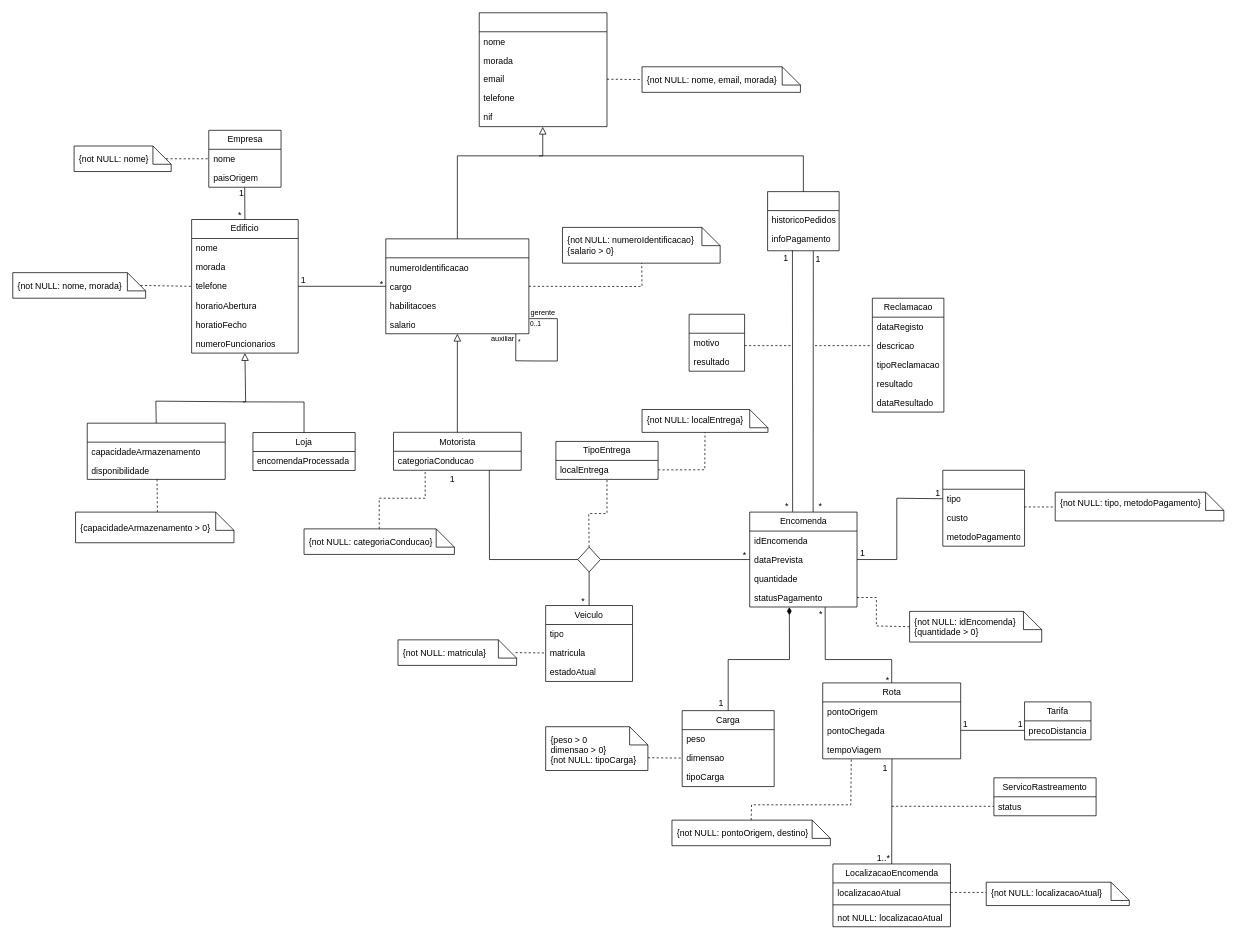
Some shapes in this 1237 by 942 pixel diagram are drawn without their labels. The box of each missing label's shape, as (x1, y1, x2, y2) in pixels:
Armazem: (87, 422, 225, 479)
Cliente: (767, 191, 839, 251)
Devolucao: (688, 314, 745, 371)
Envio: (942, 470, 1025, 546)
Funcionario: (385, 238, 529, 334)
Pessoa: (479, 12, 607, 127)
